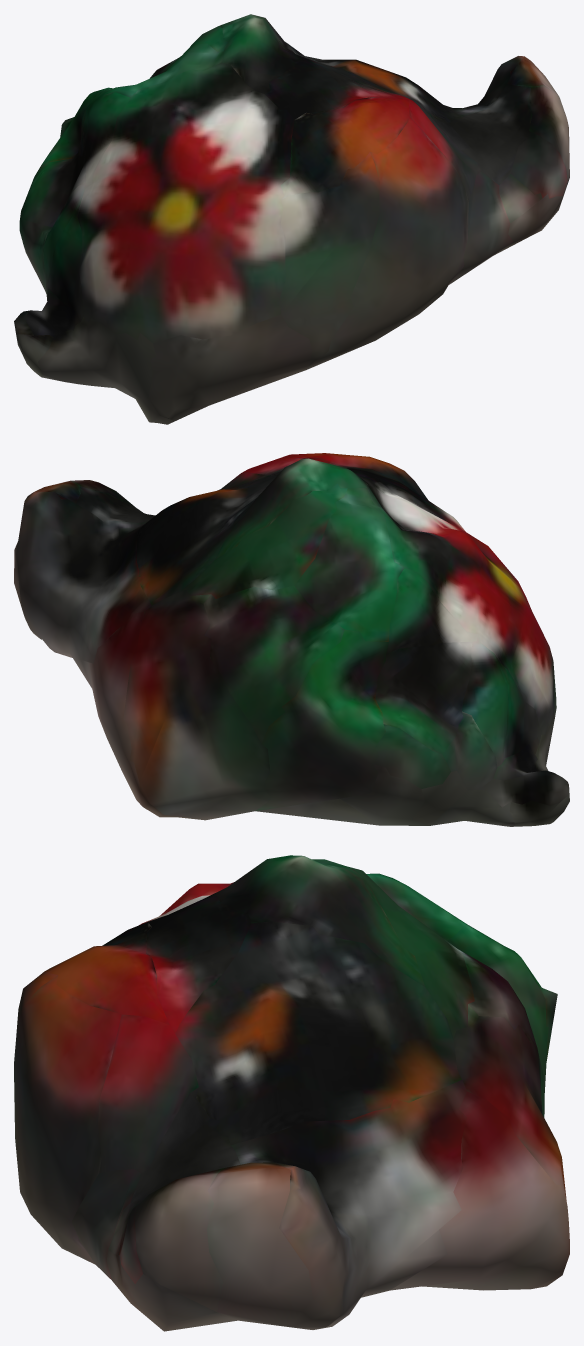
File: hall.glb
3 views of the same model, one above another, from view 1: azimuth 30°, elevation 25°; view 2: azimuth 150°, elevation 25°; view 3: azimuth 270°, elevation 25° (orthographic). The views are drawn at different scales.
Bounding box in the file's own units: 0.4998 × 0.3022 × 0.3367.
Materials: 1 (1 with a texture image).
